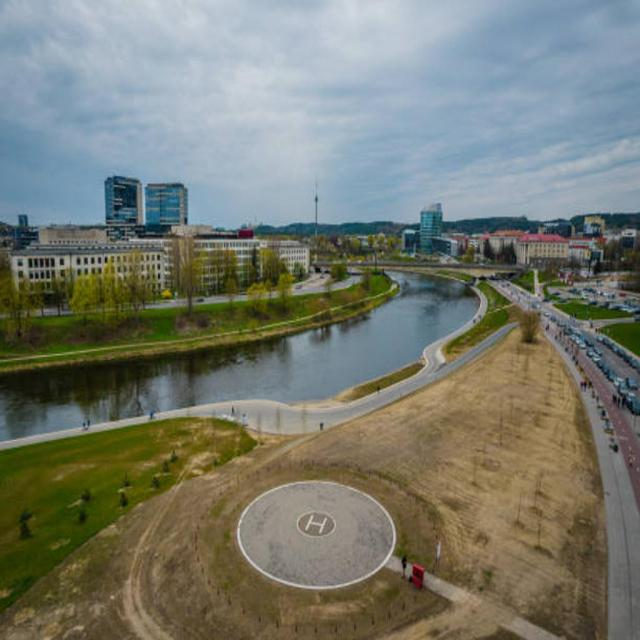helipad: (296, 510, 336, 538)
